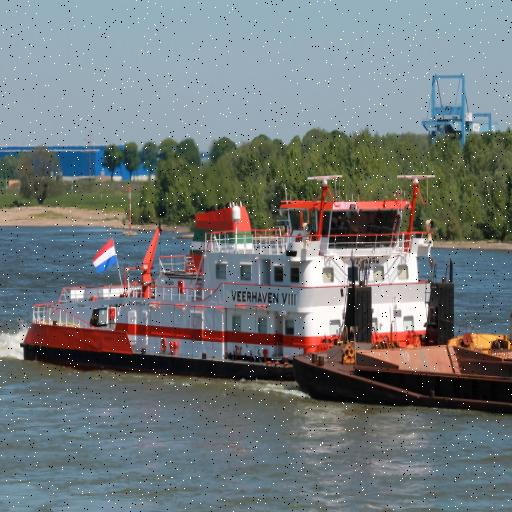tugboat: (19, 172, 459, 388)
